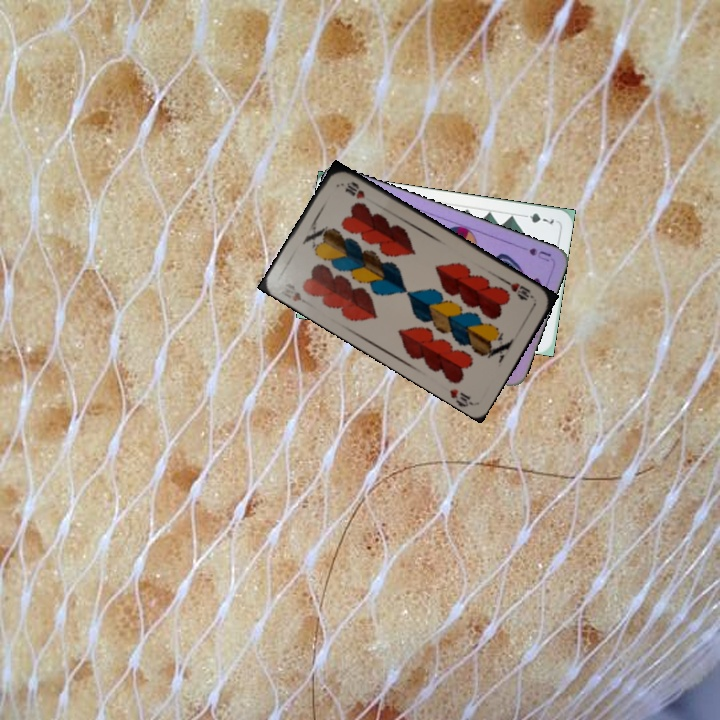G7: (517, 209, 556, 227)
H10: (500, 276, 537, 303), (281, 279, 313, 308)
SU: (514, 241, 554, 265)
